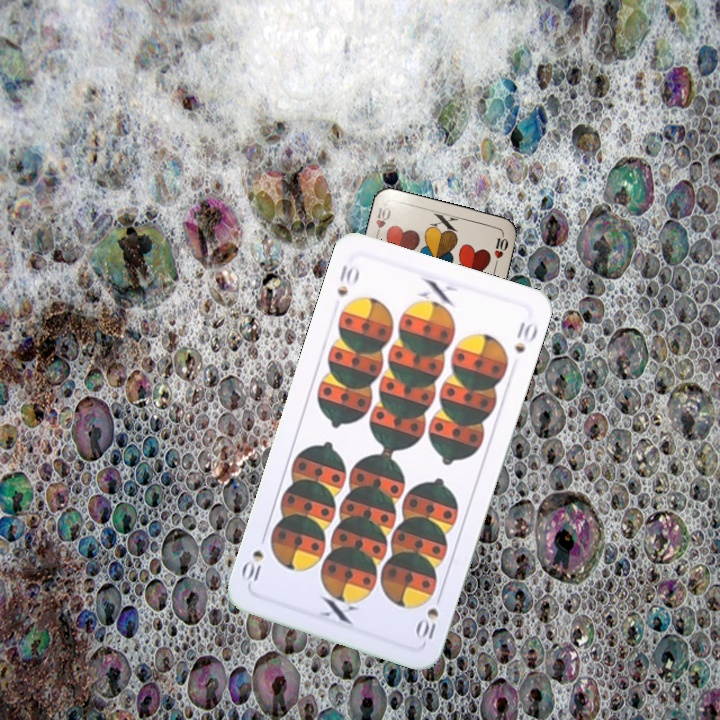H10: (371, 203, 394, 242)
S10: (413, 603, 442, 646), (333, 260, 362, 299)
